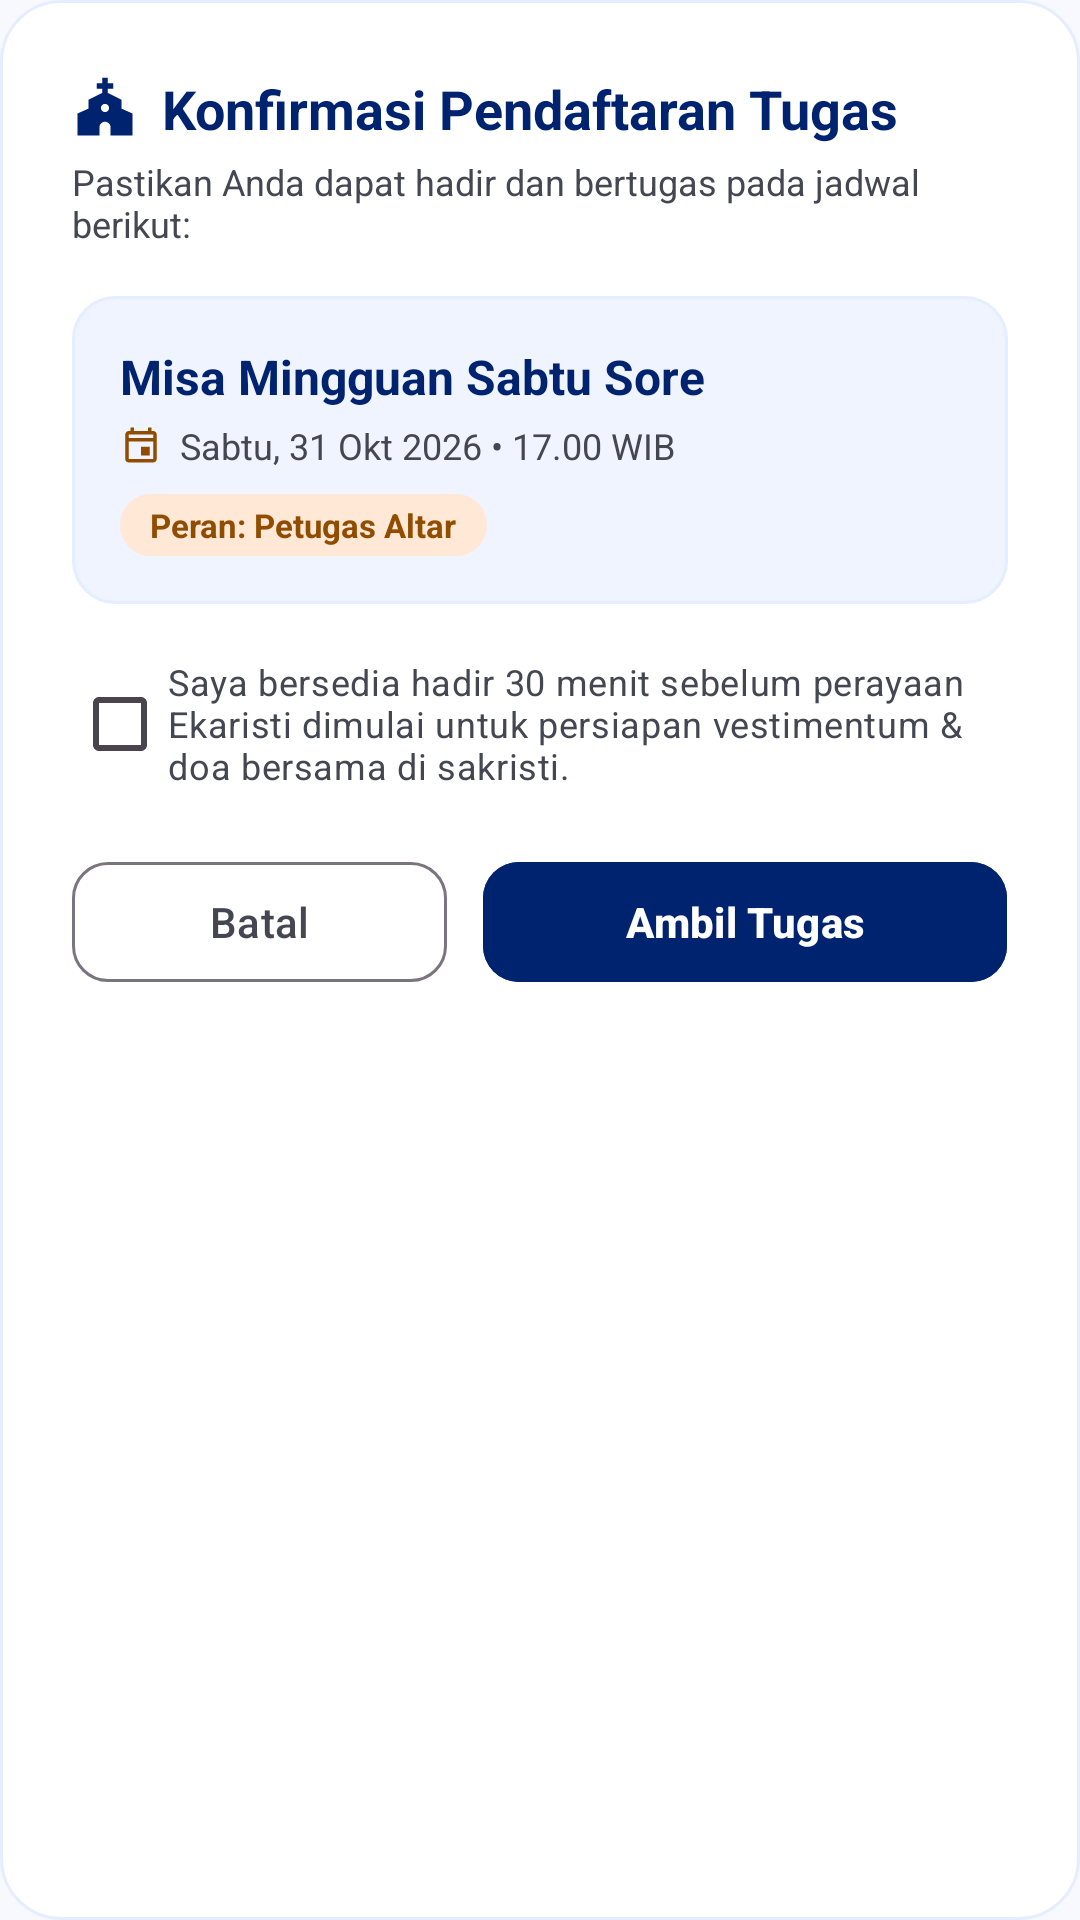

Point at icon controls on the screen. Image size 1080*1920, points as [x,y].
calendar: [141,445]
church: [105,106]
